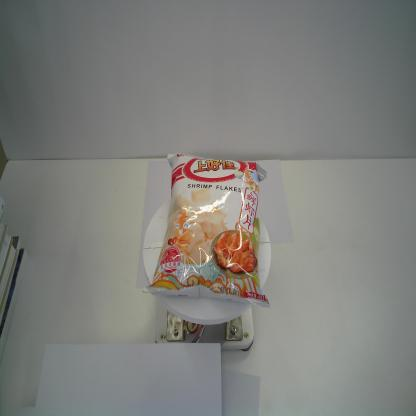Puffed Food: (139, 148, 274, 314)
